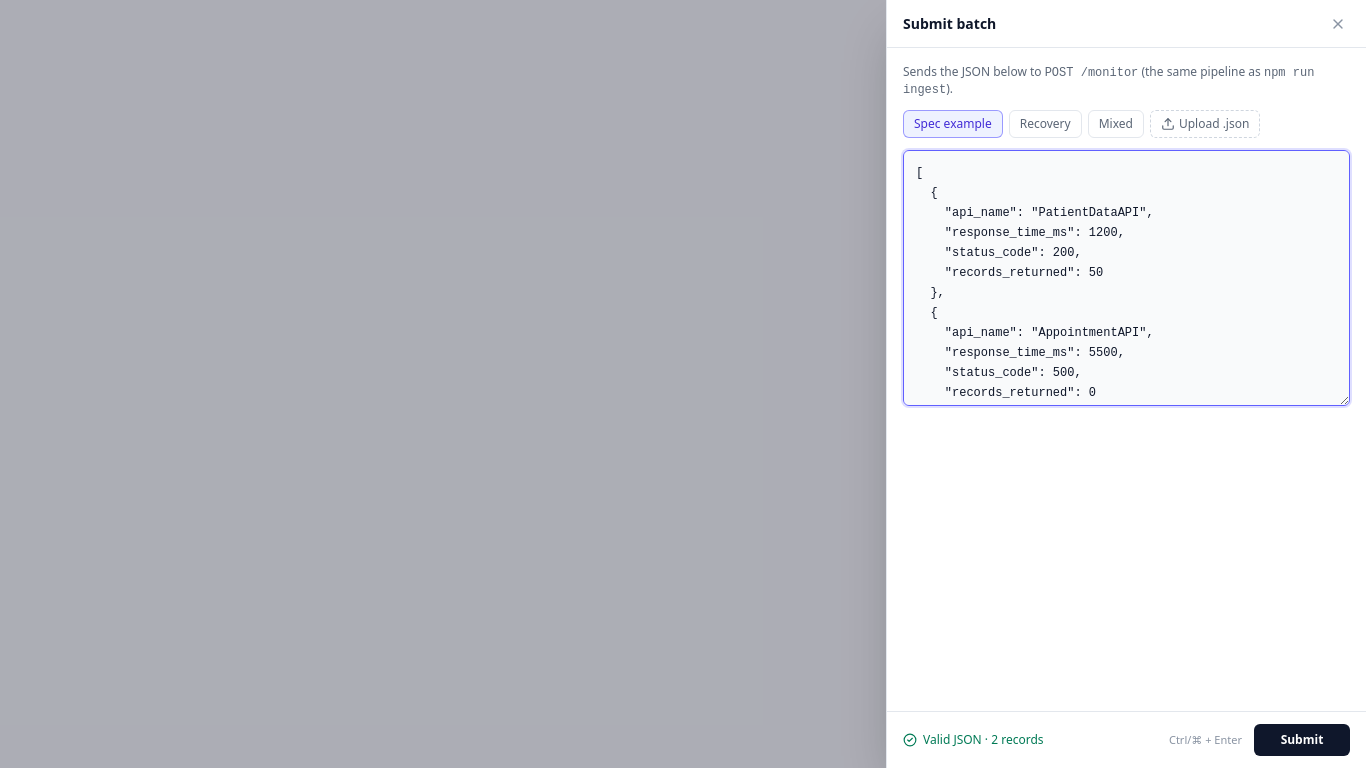
Test: SubmitBatchPanel › lists rejected records from a partially valid batch
Step 1. Click the button "Submit" → (1302, 740), box [1254,724,1350,756]
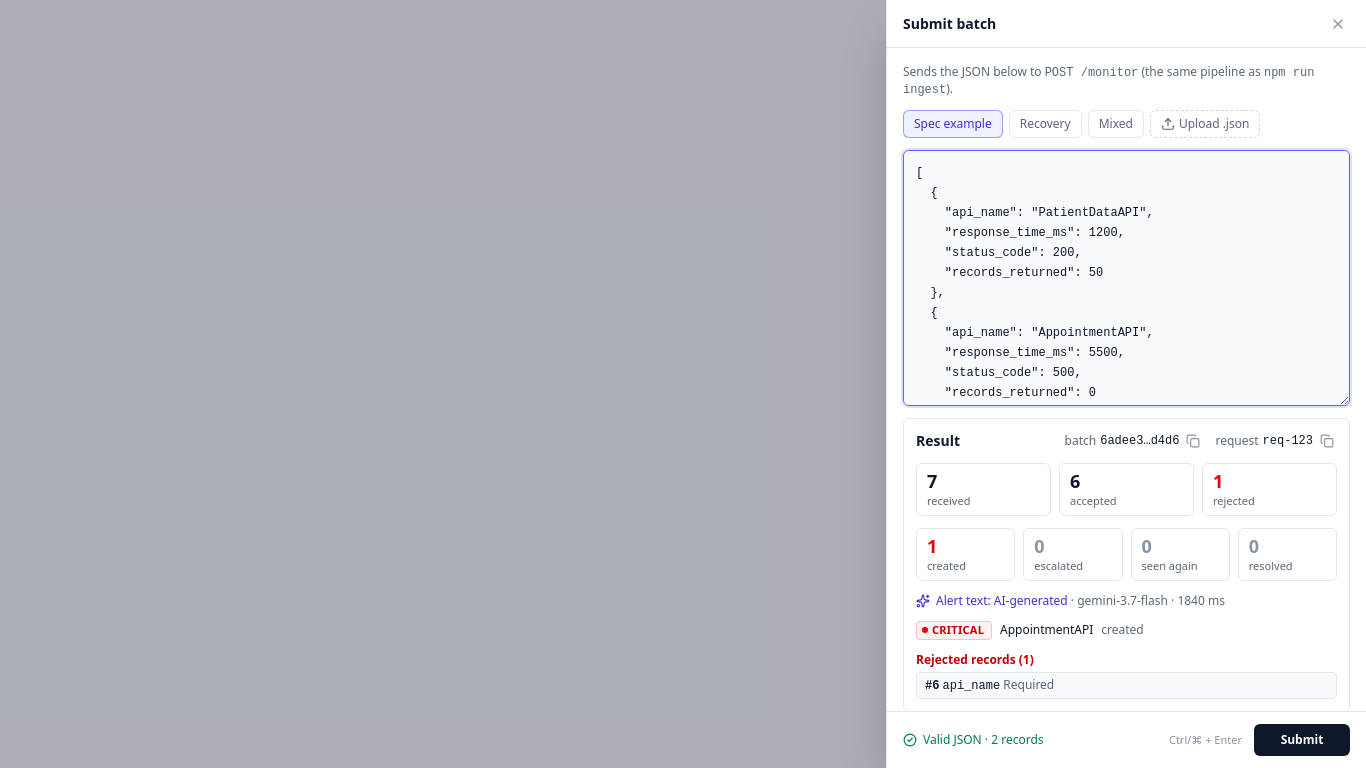
Expected: the heading "Rejected records (1)" is shown, [916,651,1034,668]
Expected: the text "#6" is shown, [925,679,939,693]
Expected: the text "api_name" is shown, [942,679,1000,693]
